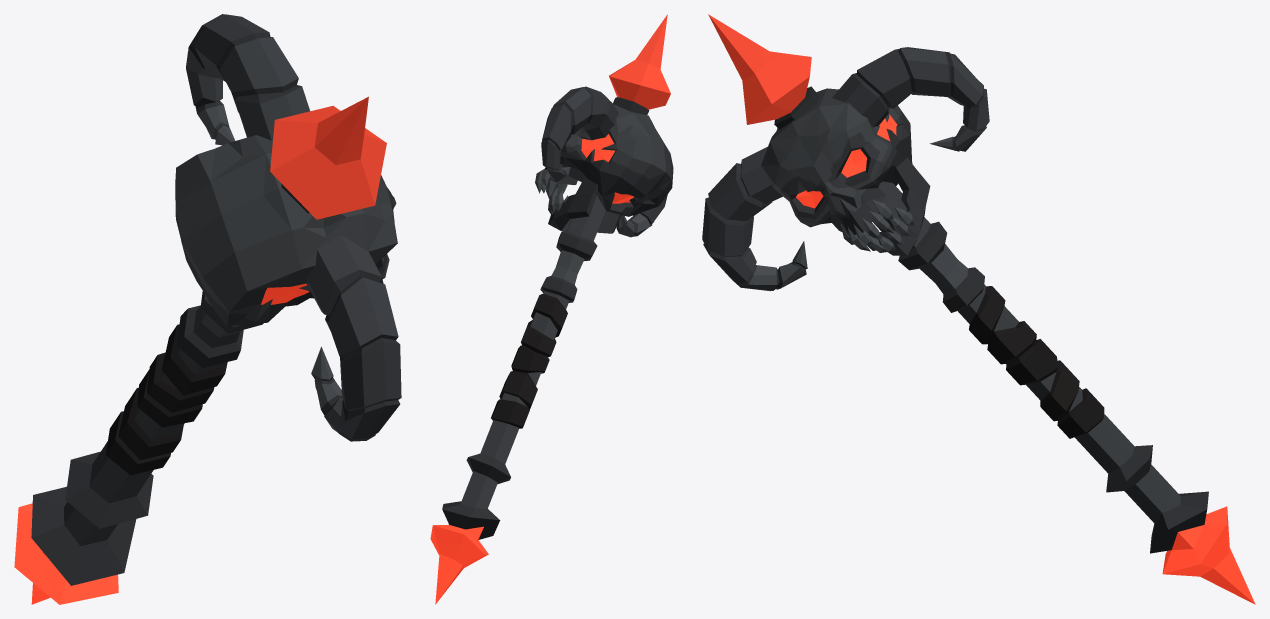
Rendered from df-mace-01.glb.
3 views of the same model, side by side, from view 1: azimuth 30°, elevation 25°; view 2: azimuth 150°, elevation 25°; view 3: azimuth 270°, elevation 25° (orthographic). The views are drawn at different scales.
Visible parts, largest first — view 1: df-mace-01; view 2: df-mace-01; view 3: df-mace-01.
Boxes of the visible parts, x1,y1,x2,y2 form: df-mace-01: (14, 14, 401, 604); df-mace-01: (430, 14, 673, 604); df-mace-01: (702, 14, 1255, 604).
Size of the model in its own units: 0.2813 by 0.9889 by 0.8603.
Materials: 1 (1 with a texture image).
